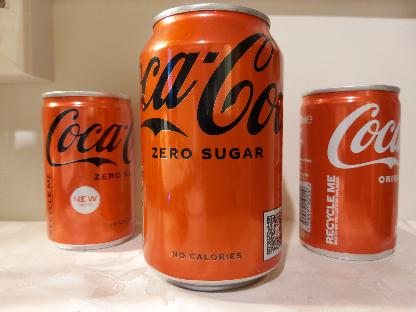Can: (138, 2, 284, 292), (298, 83, 402, 259), (40, 87, 136, 249)
